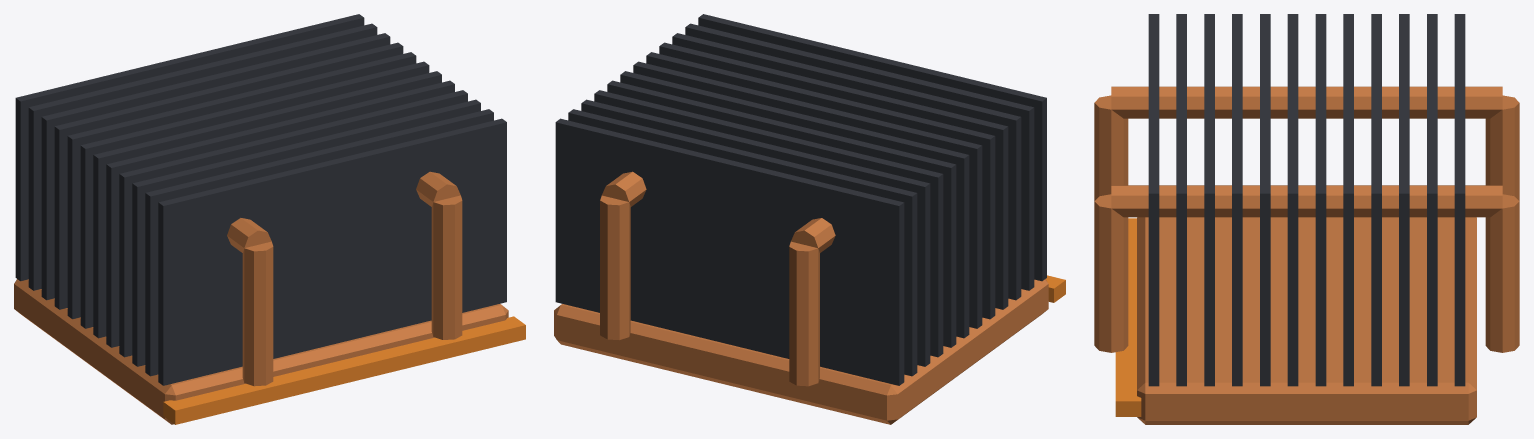
The model's file is heatsink_quality.glb.
The picture shows the model from 3 angles, left to right: view 1: azimuth 30°, elevation 25°; view 2: azimuth 150°, elevation 25°; view 3: azimuth 270°, elevation 25°; orthographic projection. The views are drawn at different scales.
Parts seen in each view (by area): view 1: heatsink_quality; view 2: heatsink_quality; view 3: heatsink_quality.
Part boxes in pixels (x1,y1,x2,y2): heatsink_quality: [14, 14, 525, 424]; heatsink_quality: [554, 14, 1065, 424]; heatsink_quality: [1094, 14, 1519, 424].
Size of the model in its own units: 0.204 by 0.122 by 0.2.
